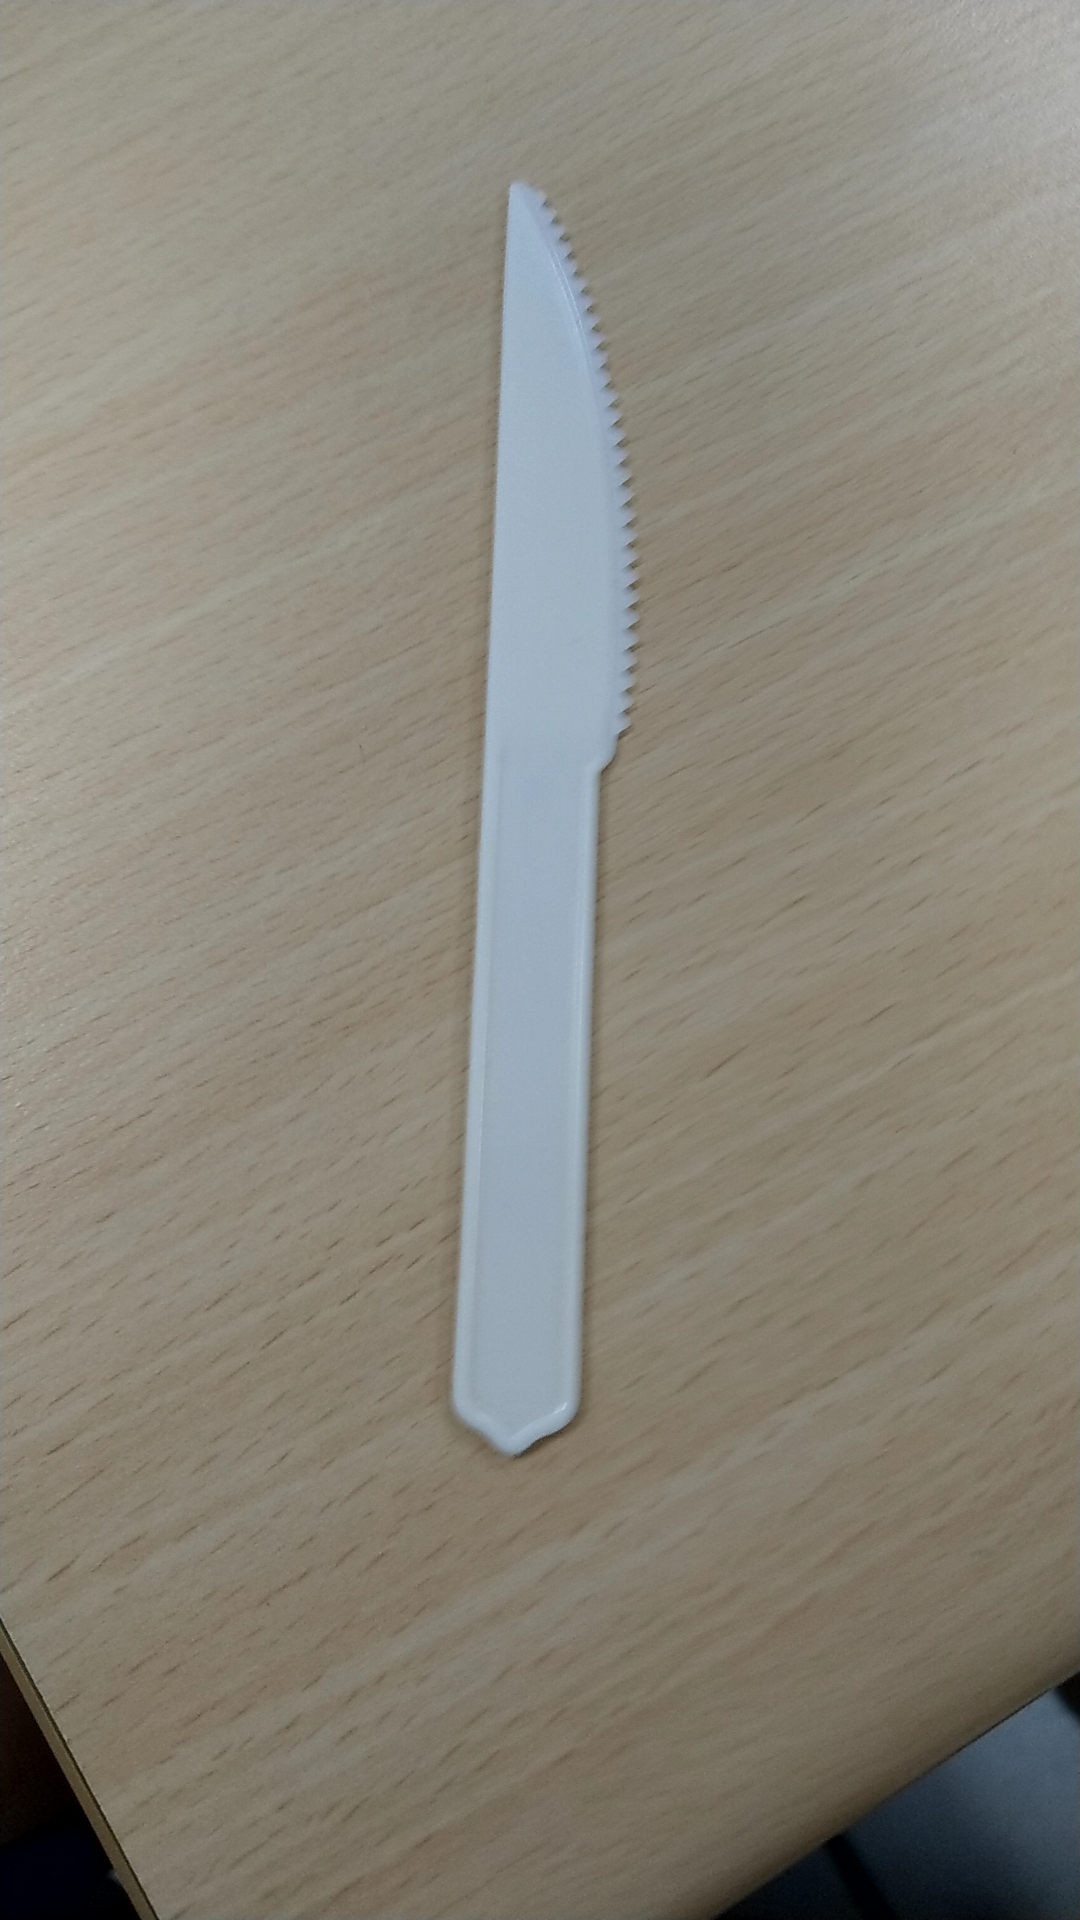knife: (402, 129, 666, 1493)
